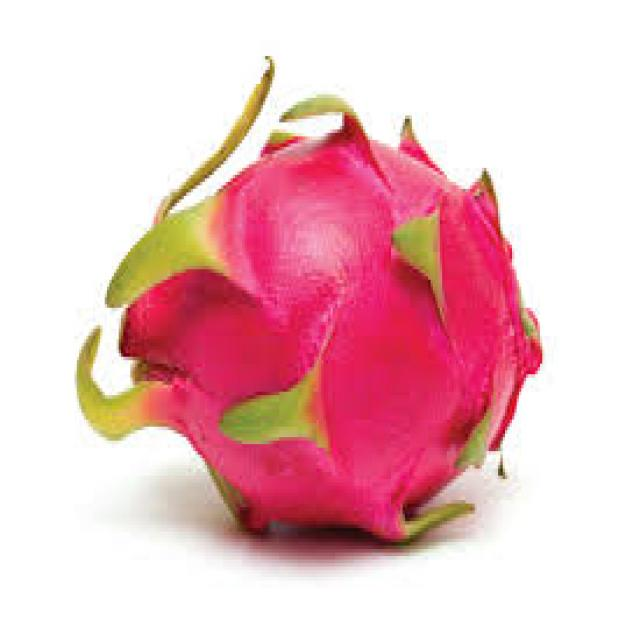organic waste: (74, 52, 540, 546)
